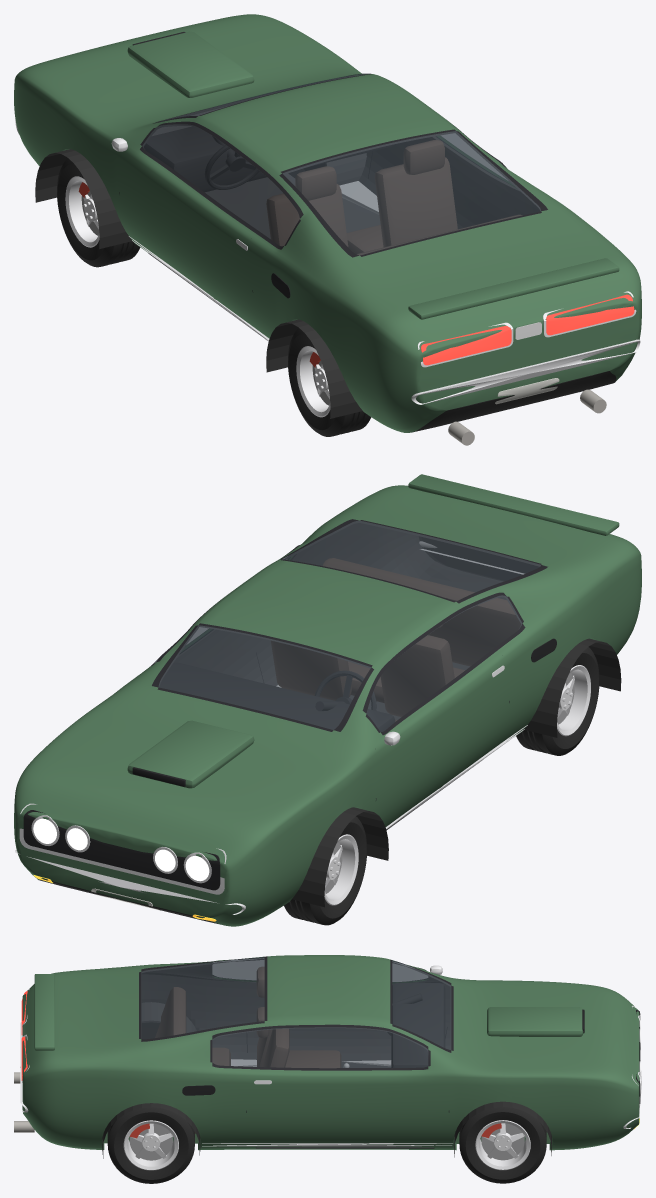
File: 03_brutus_fastback.glb
The picture shows the model from 3 angles, top to bottom: view 1: azimuth 30°, elevation 25°; view 2: azimuth 150°, elevation 25°; view 3: azimuth 270°, elevation 25°; orthographic projection. The views are drawn at different scales.
Parts seen in each view (by area): view 1: Body.008, Glass.008, Interior.008, Interior_Shell.007, ArchLiners.007, Hood_Scoop, Wheel_FL.008, Wheel_RL.008, Spoiler_Duck, Lights_Tail.008, Bumper_Rear.003, Rocker_Chrome (+4 smaller); view 2: Body.008, Glass.008, Interior.008, Interior_Shell.007, ArchLiners.007, Hood_Scoop, Wheel_RL.008, Wheel_FL.008, Spoiler_Duck, Grille_Main.001, Grille_Surround, Bumper_Front.004 (+3 smaller); view 3: Body.008, Glass.008, Interior_Shell.007, Interior.008, Wheel_FR.008, Wheel_RR.008, Hood_Scoop, ArchLiners.007, Spoiler_Duck, Rocker_Chrome.
Part boxes in pixels (box(x1,y1,x2,y2)): Body.008: box(14, 14, 641, 432); Glass.008: box(142, 73, 540, 255); Interior.008: box(144, 126, 522, 339); Interior_Shell.007: box(142, 75, 540, 228); ArchLiners.007: box(35, 149, 362, 418); Hood_Scoop: box(127, 31, 254, 97); Wheel_FL.008: box(57, 158, 140, 267); Wheel_RL.008: box(288, 328, 371, 436); Spoiler_Duck: box(408, 258, 619, 319); Lights_Tail.008: box(421, 294, 634, 365); Bumper_Rear.003: box(411, 339, 640, 404); Rocker_Chrome: box(129, 181, 379, 340); Body.008: box(14, 485, 641, 926); Glass.008: box(152, 520, 540, 731); Interior.008: box(159, 558, 520, 830); Interior_Shell.007: box(158, 520, 540, 719); ArchLiners.007: box(292, 638, 621, 907); Hood_Scoop: box(127, 720, 254, 788); Wheel_RL.008: box(516, 647, 599, 755); Wheel_FL.008: box(284, 816, 367, 925); Spoiler_Duck: box(408, 474, 619, 535); Grille_Main.001: box(23, 810, 220, 890); Grille_Surround: box(19, 803, 226, 894); Bumper_Front.004: box(15, 850, 245, 914); Body.008: box(22, 955, 639, 1150); Glass.008: box(141, 956, 451, 1068); Interior_Shell.007: box(141, 958, 451, 1142); Interior.008: box(155, 966, 445, 1148); Wheel_FR.008: box(459, 1107, 546, 1183); Wheel_RR.008: box(107, 1107, 194, 1183); Hood_Scoop: box(487, 1007, 583, 1036); ArchLiners.007: box(102, 1022, 551, 1158); Spoiler_Duck: box(34, 974, 54, 1050); Rocker_Chrome: box(202, 1059, 452, 1146).
Size of what is drawn, in the model's own units: 1.99 by 1.32 by 4.89.
